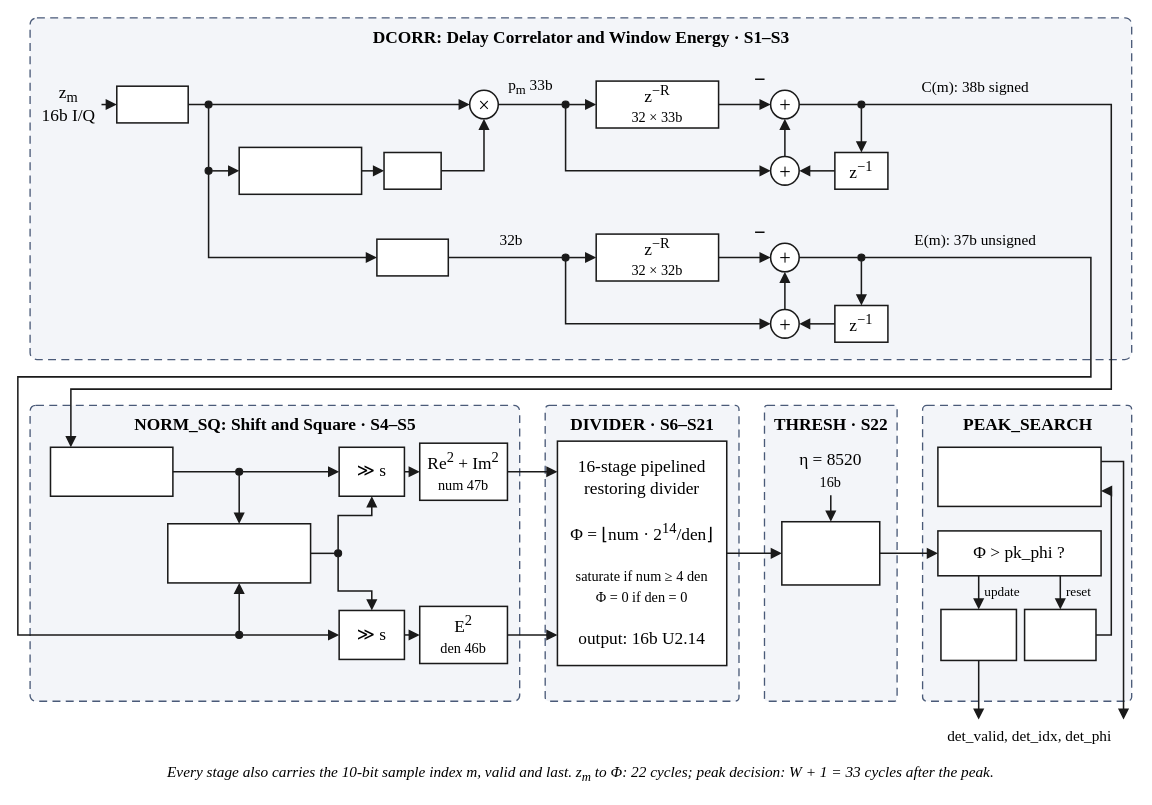
This 1152x805 diagram has some shape labels left out. The centre of each missing label's shape, as x and y in pixels:
"cnt 6b" belongs at (x=1059, y=634).
"conj" belongs at (x=412, y=170).
"control: run, hold emit at cnt = 32 or last" belongs at (x=1019, y=476).
"leading-one detect → s, 4b" belongs at (x=239, y=553).
"pk_phi pk_idx" belongs at (x=978, y=634).
"S1 reg" belongs at (x=152, y=104).
"z −L 128 × 32b" belongs at (x=300, y=170).
"|Re C|, |Im C|" belongs at (x=111, y=471).
"|z m | 2" belongs at (x=412, y=257).
"Φ > η ? → above" belongs at (x=830, y=553).
